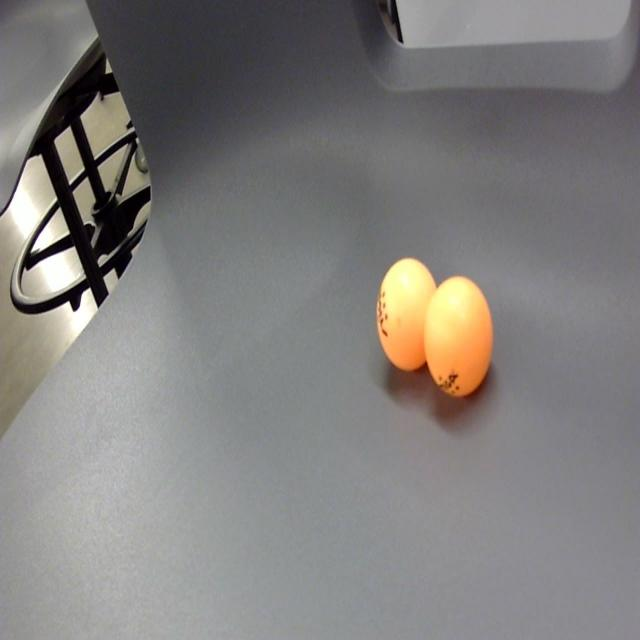ball: (422, 274, 494, 400), (376, 256, 440, 374)
